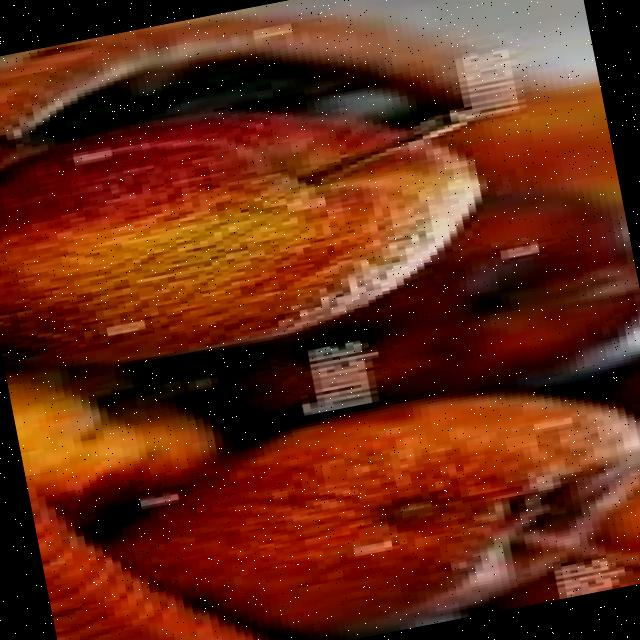overripe: (0, 60, 498, 389), (100, 353, 640, 640)
